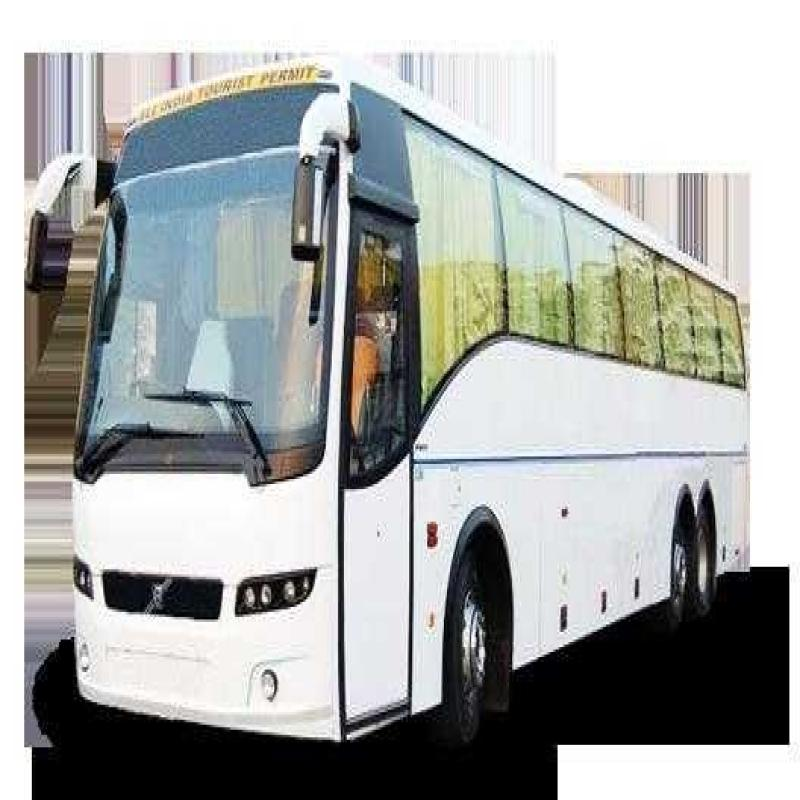bus: (77, 33, 800, 732)
